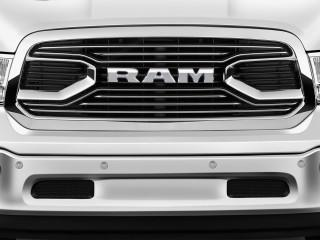ram: (102, 60, 218, 90)
